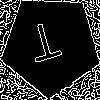T: (25, 20, 66, 72)
